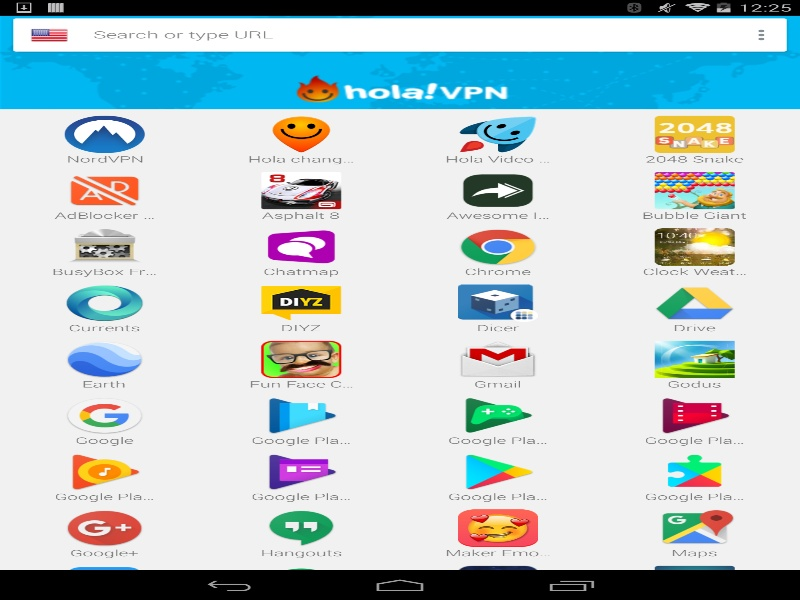Button: (737, 19, 785, 50), (28, 19, 70, 50)
Input: (77, 22, 737, 47)
